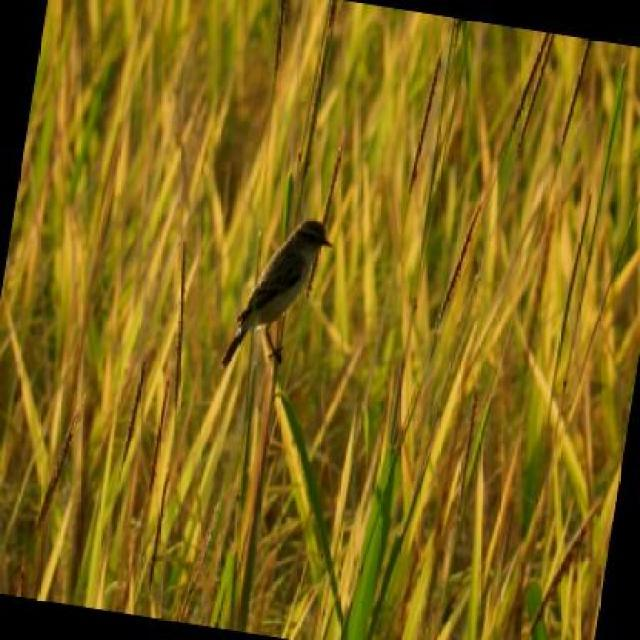Bird: (222, 215, 335, 366)
